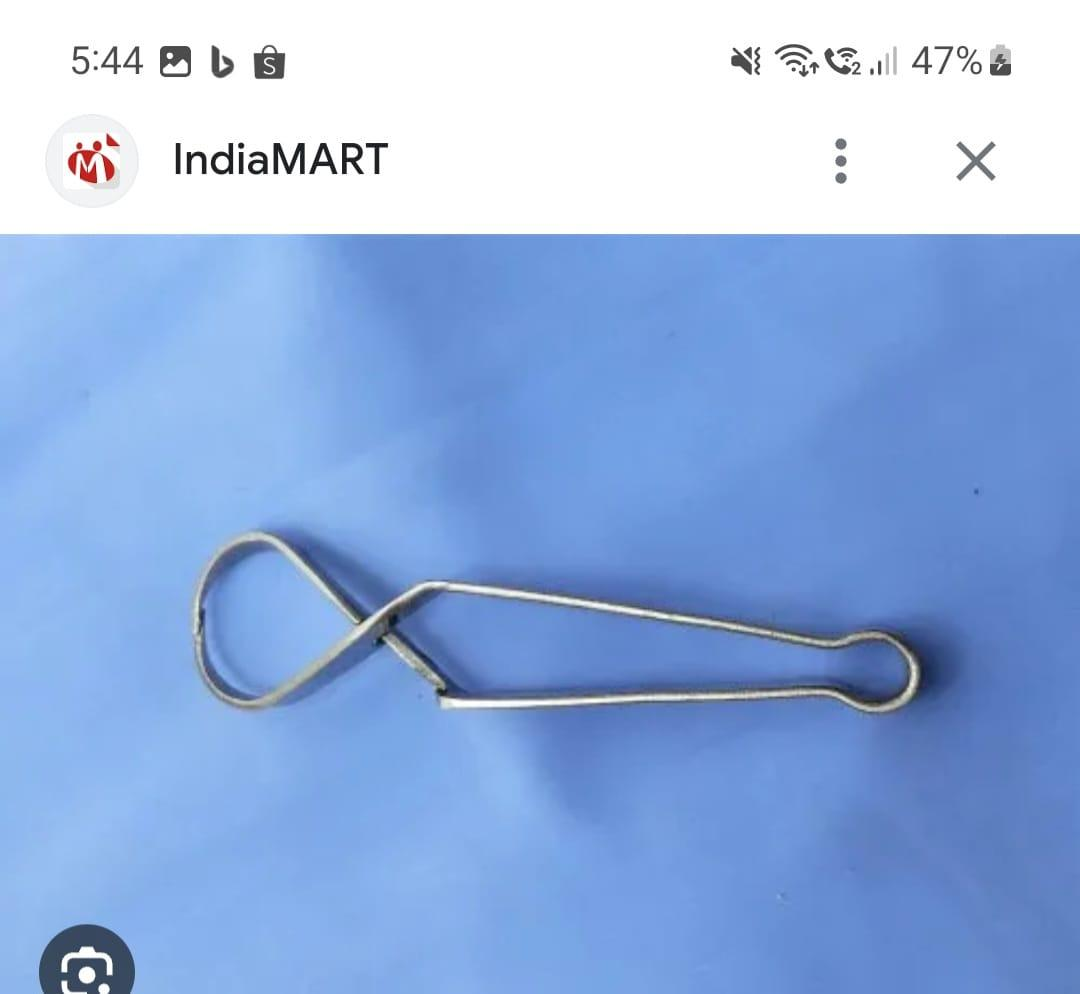Doyen Cross Action Towel Clamp: (181, 516, 924, 750)
